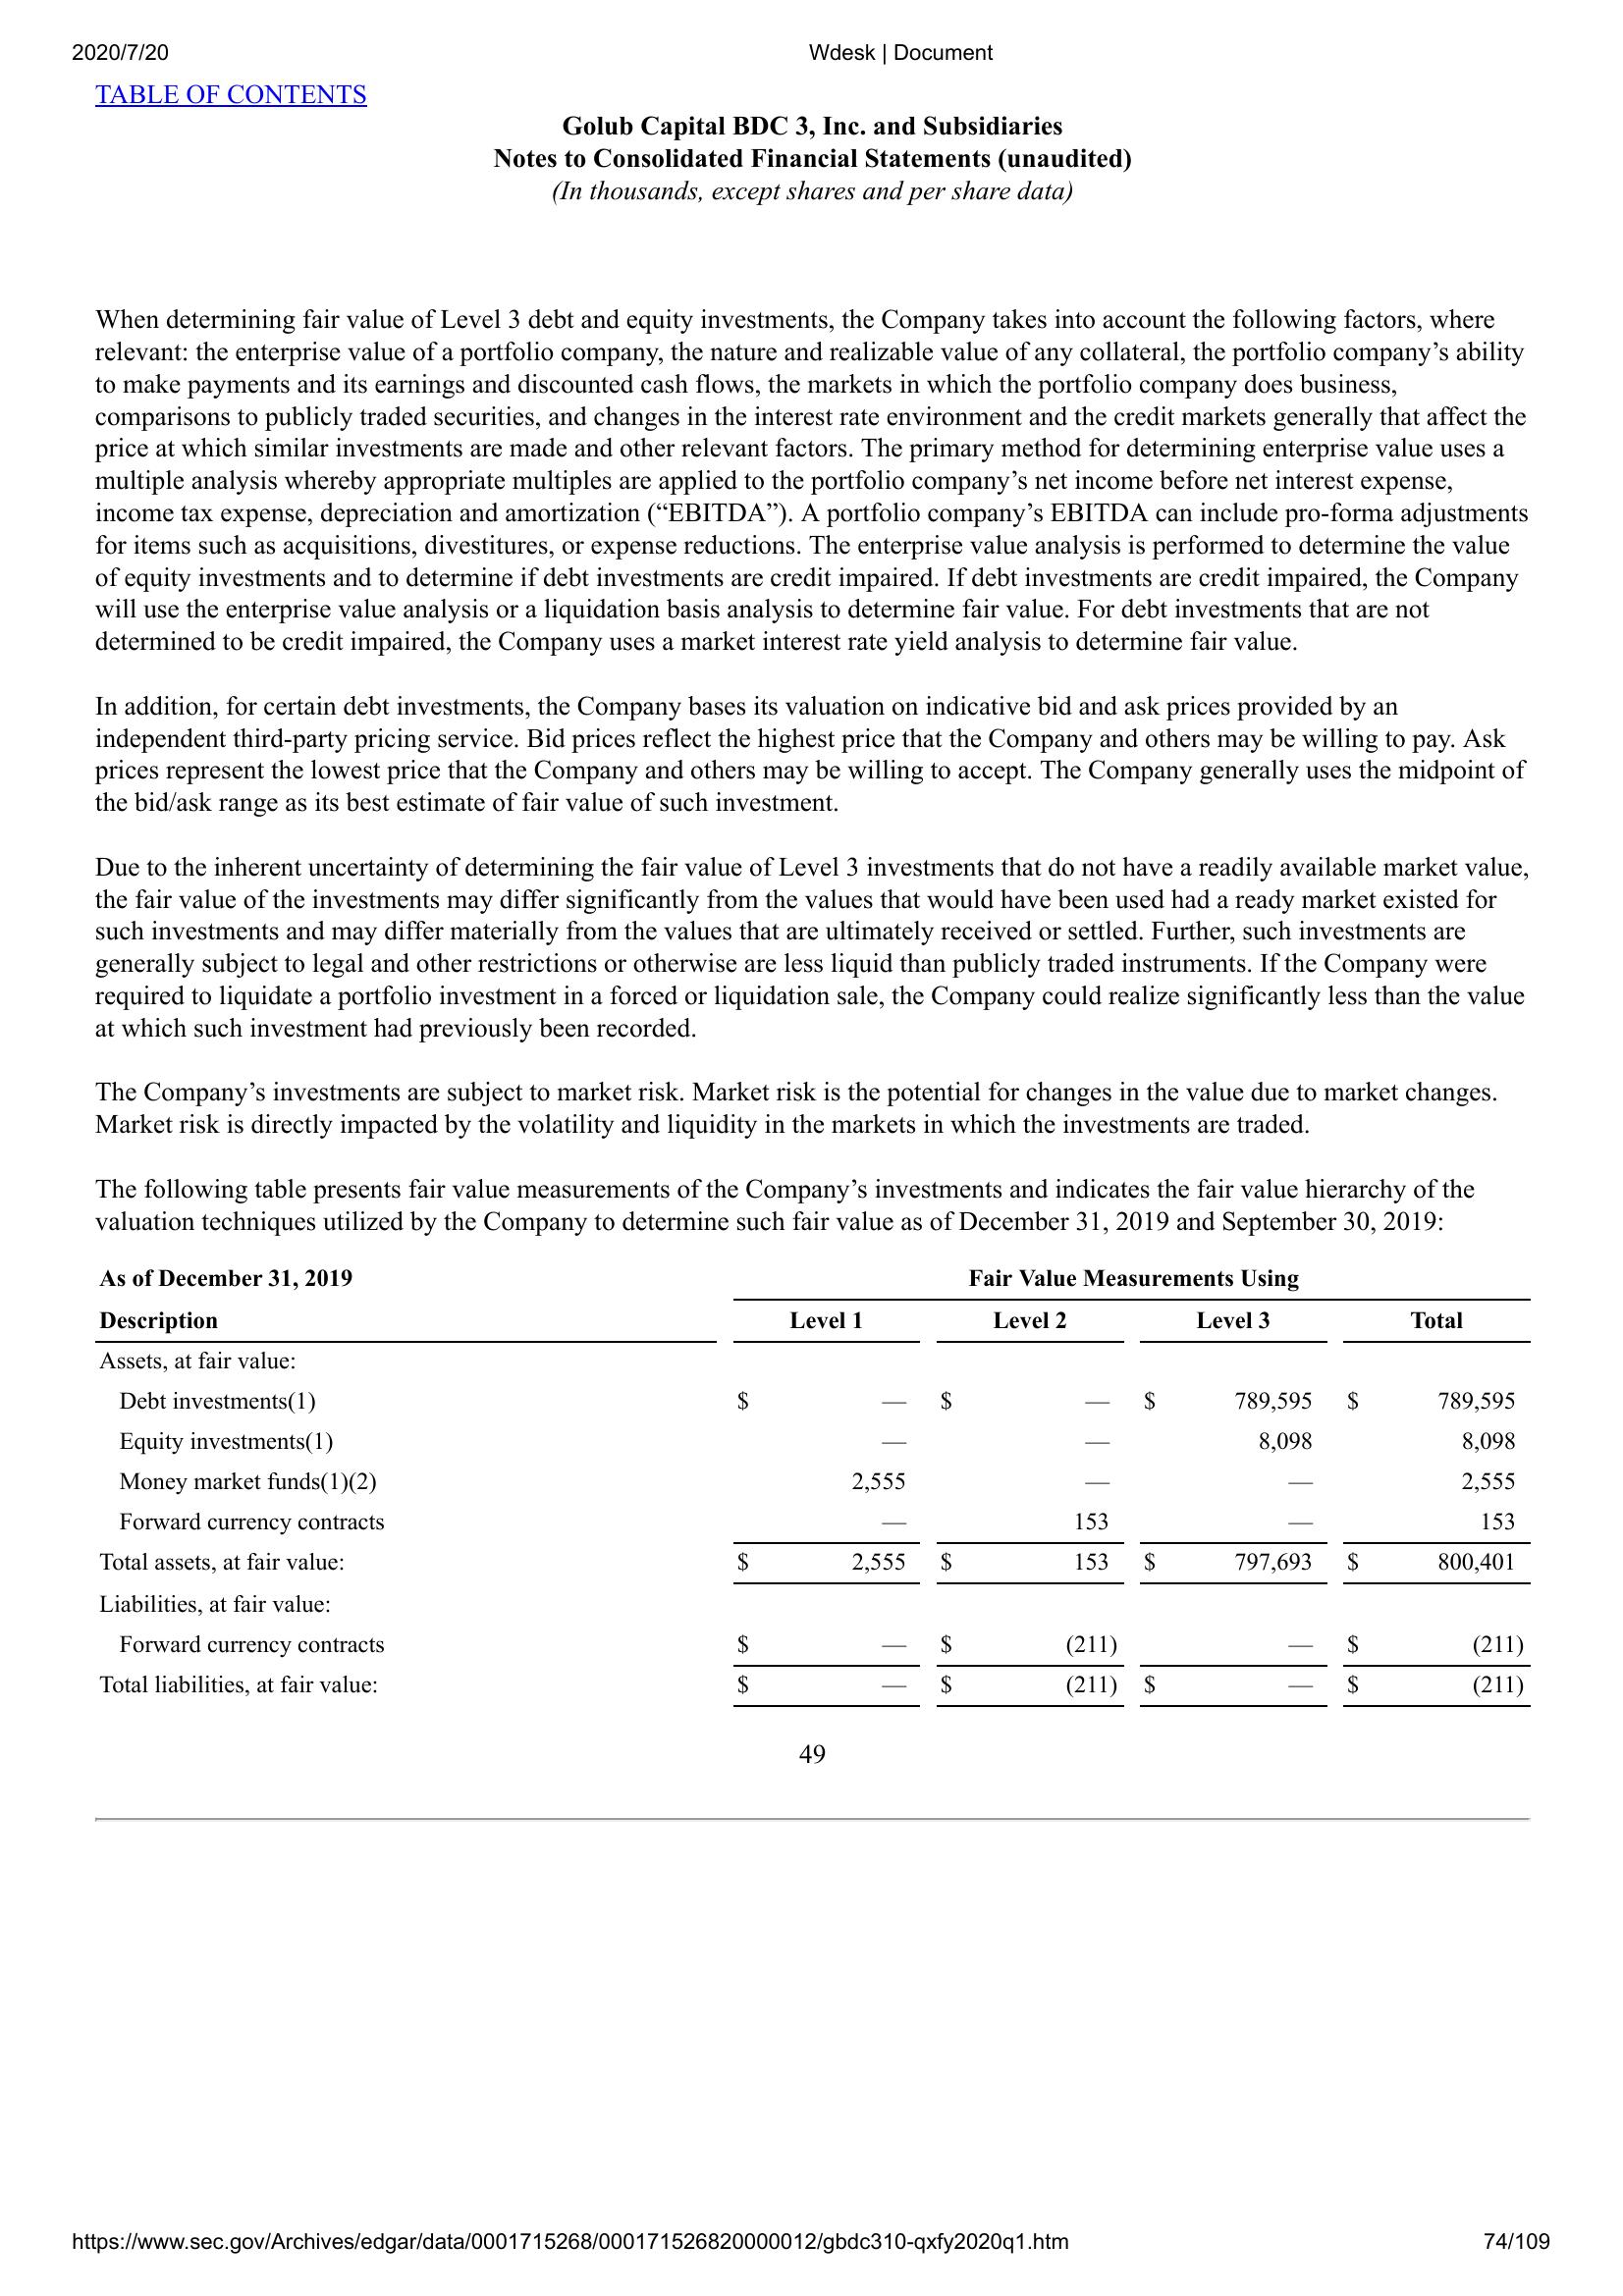table: (81, 1262, 1537, 1718)
